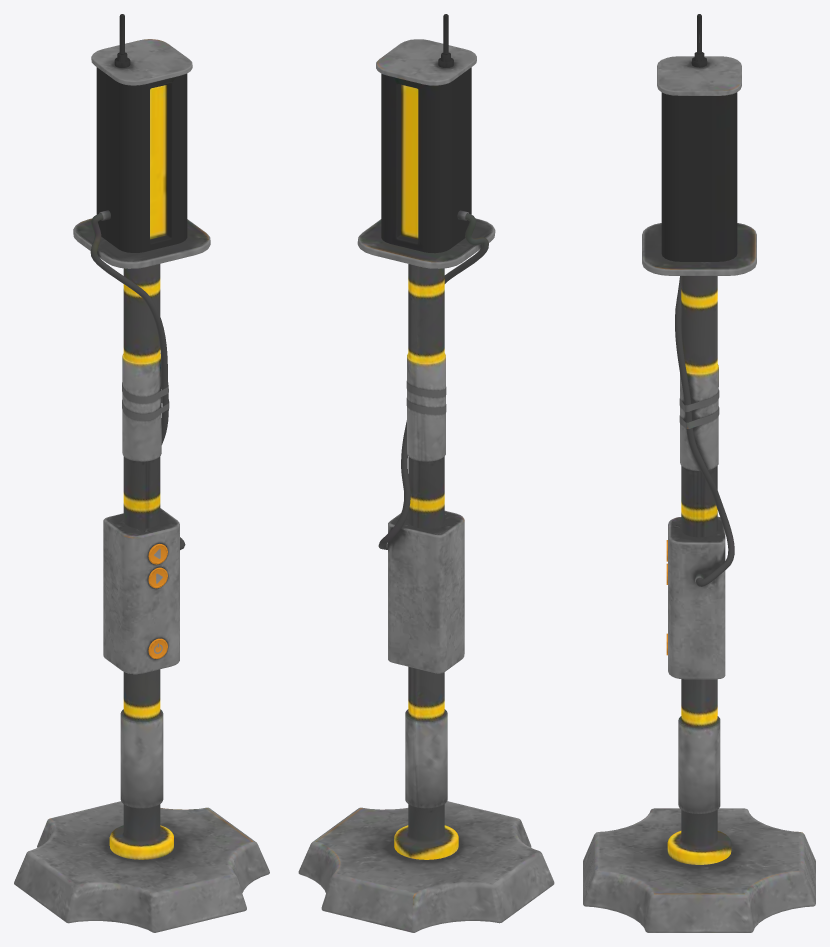
The model's file is beacon.glb.
The picture shows the model from 3 angles, left to right: view 1: azimuth 30°, elevation 25°; view 2: azimuth 150°, elevation 25°; view 3: azimuth 270°, elevation 25°; orthographic projection.
Parts seen in each view (by area): view 1: StandBase_Material_0; view 2: StandBase_Material_0; view 3: StandBase_Material_0.
Boxes of the visible parts, x1,y1,x2,y2 form: StandBase_Material_0: (14, 14, 269, 932); StandBase_Material_0: (298, 14, 554, 932); StandBase_Material_0: (583, 14, 815, 932).
Bounding box in the file's own units: 0.3366 × 1.37 × 0.3366.
Materials: 1 (1 with a texture image).
